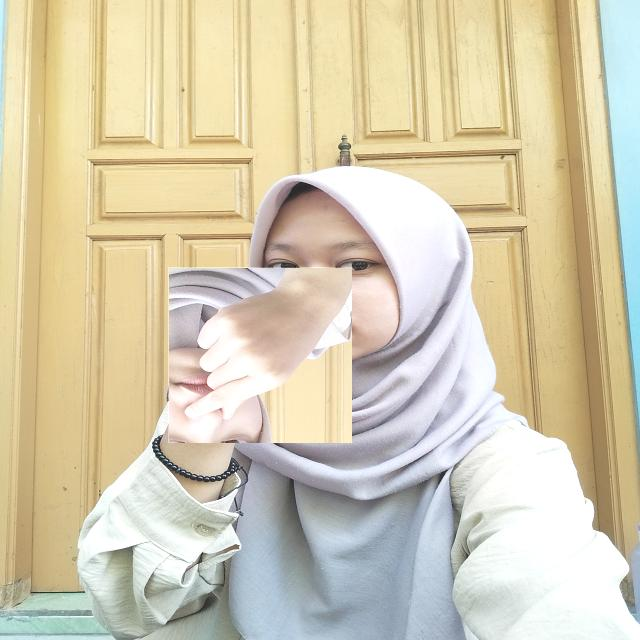bau: (168, 267, 352, 443)
